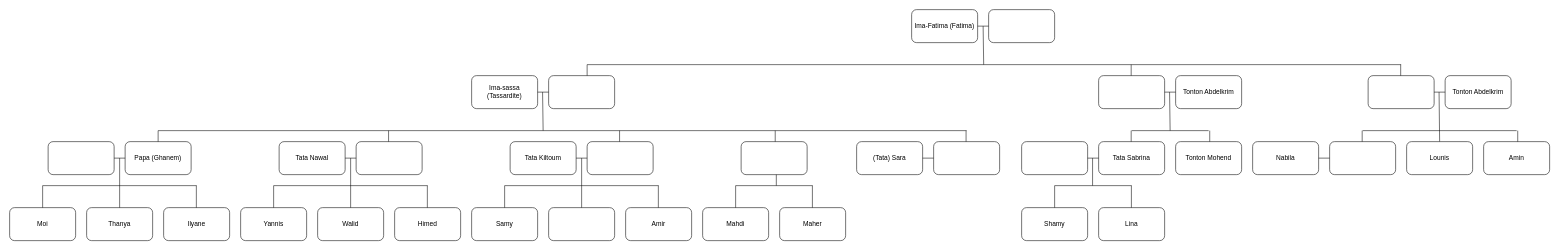
Some shapes in this 1559 by 250 pixel diagram are drawn without their labels. The shapes that lost their labels are listed below. From the top down, each one's box as (x1, y1, x2, y2) in pixels, then its label:
(988, 9, 1055, 43): Grand-Père (Sadik)
(548, 75, 615, 109): Jedis (Amar)
(1098, 75, 1165, 109): Tata Ghanima
(1368, 75, 1434, 109): Tata Adila
(48, 141, 114, 175): Maman (Nabila)
(356, 141, 422, 175): Tonton Adel
(587, 141, 653, 175): Tonton Adnane
(741, 141, 807, 175): Tata Lina
(933, 141, 1000, 175): Tonton Samir
(1021, 141, 1088, 175): Tonton ???
(1329, 141, 1396, 175): Hamo
(548, 207, 615, 241): Rayan
